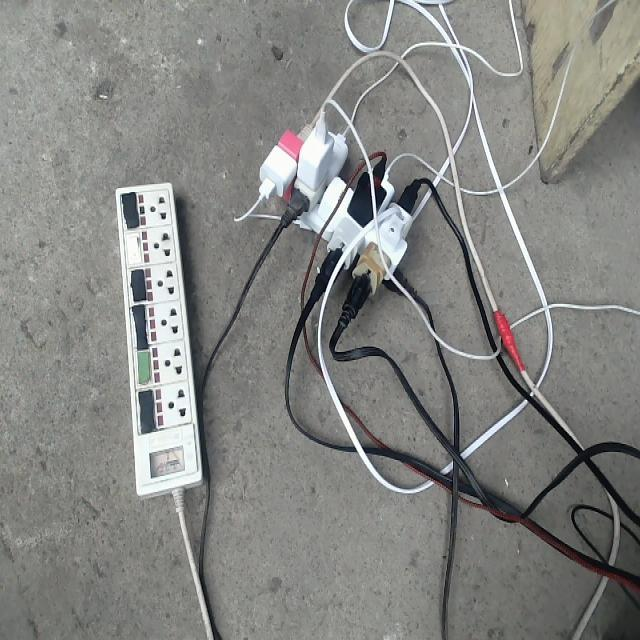-: (256, 99, 413, 300)
